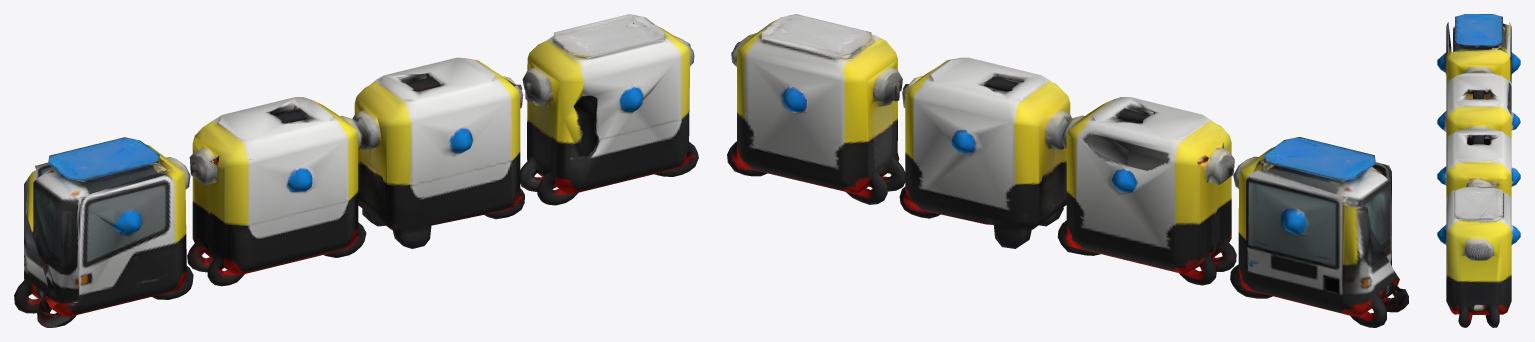
File: sweeper.glb
The picture shows the model from 3 angles, left to right: view 1: azimuth 30°, elevation 25°; view 2: azimuth 150°, elevation 25°; view 3: azimuth 270°, elevation 25°; orthographic projection. The views are drawn at different scales.
Size of the model in its own units: 2 by 0.4256 by 0.3099.
Materials: 1 (1 with a texture image).
